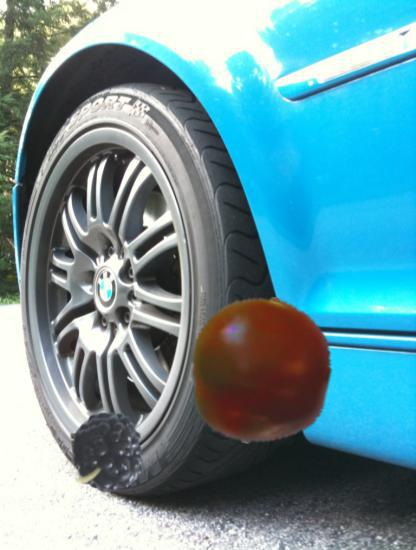Mulberry: (70, 408, 165, 503)
Tomato: (186, 296, 335, 445)
